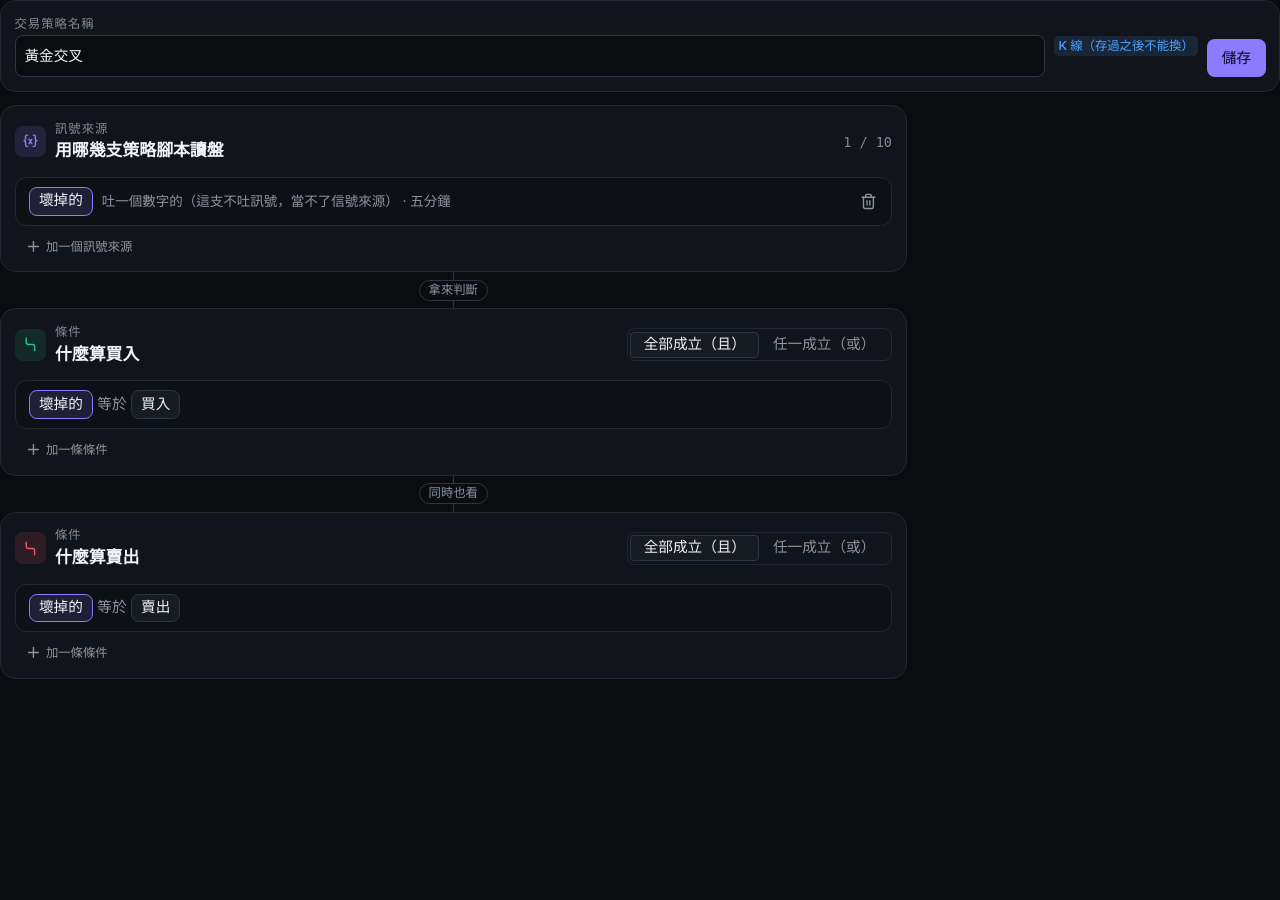
Scenario: TradingStrategyWorkbench：來源指著一支挑不得的策略腳本 › 選單不是一片空白——它說得出這個來源用的是哪一支、為什麼用不了
The width and height of the screenshot is (1280, 900).
Click the button with test id "strategy-script-settings-0" at (430,201), box left=16, top=178, right=845, bottom=224
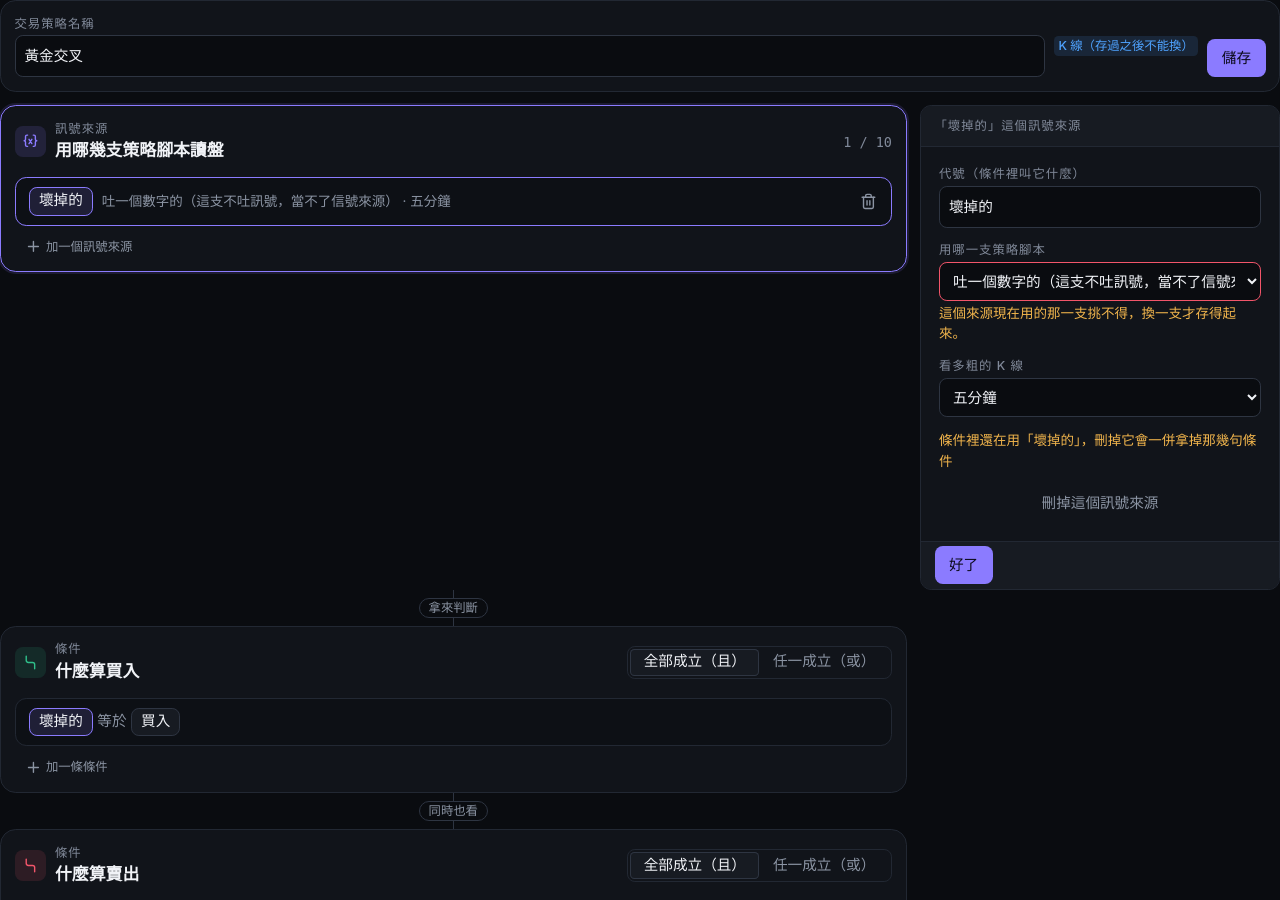
Check: the text "這個來源現在用的那一支挑不得，換一支才存得起來。" is shown, box left=939, top=303, right=1261, bottom=344
